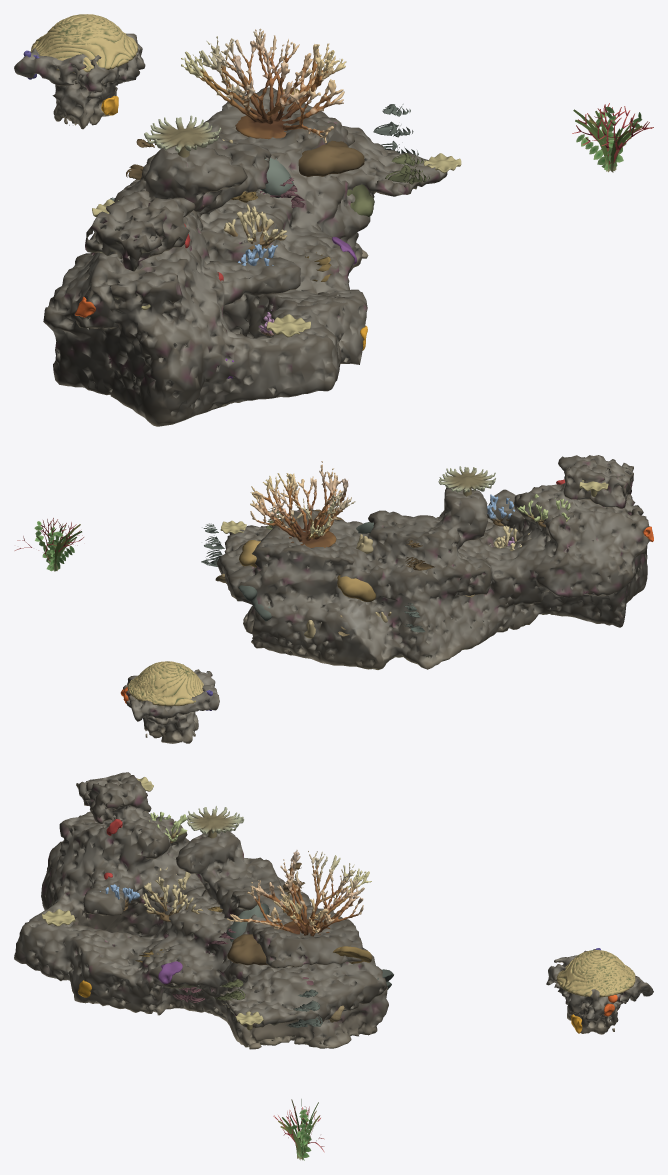
File: reef-benchmark.glb
3 views of the same model, one above another, from view 1: azimuth 30°, elevation 25°; view 2: azimuth 150°, elevation 25°; view 3: azimuth 270°, elevation 25° (orthographic). The views are drawn at different scales.
Parts seen in each view (by area): view 1: Reef_Ridge, Reef_Branching, Reef_Massive, Reef_Bommie, Reef_Soft, Reef_Sponge, Reef_Plant_Halimeda, Reef_Plant_Grass, Reef_Plant_RedAlga; view 2: Reef_Ridge, Reef_Branching, Reef_Massive, Reef_Bommie, Reef_Soft, Reef_Plant_Halimeda, Reef_Plant_Grass; view 3: Reef_Ridge, Reef_Branching, Reef_Massive, Reef_Bommie, Reef_Sponge, Reef_Soft.
Boxes of the visible parts, bbox=[...] form: Reef_Ridge: bbox=[43, 87, 447, 426]; Reef_Branching: bbox=[118, 28, 346, 336]; Reef_Massive: bbox=[30, 14, 429, 281]; Reef_Bommie: bbox=[14, 33, 145, 129]; Reef_Soft: bbox=[92, 139, 461, 337]; Reef_Sponge: bbox=[23, 50, 367, 378]; Reef_Plant_Halimeda: bbox=[576, 106, 642, 170]; Reef_Plant_Grass: bbox=[573, 109, 642, 172]; Reef_Plant_RedAlga: bbox=[572, 103, 653, 164]; Reef_Ridge: bbox=[216, 455, 650, 669]; Reef_Branching: bbox=[250, 461, 570, 551]; Reef_Massive: bbox=[127, 506, 474, 706]; Reef_Bommie: bbox=[123, 669, 219, 743]; Reef_Soft: bbox=[220, 480, 608, 638]; Reef_Plant_Halimeda: bbox=[34, 521, 74, 571]; Reef_Plant_Grass: bbox=[36, 521, 81, 571]; Reef_Ridge: bbox=[14, 772, 388, 1049]; Reef_Branching: bbox=[100, 806, 371, 936]; Reef_Massive: bbox=[135, 862, 635, 1027]; Reef_Bommie: bbox=[546, 949, 653, 1034]; Reef_Sponge: bbox=[78, 819, 617, 1033]; Reef_Soft: bbox=[42, 777, 299, 1030].
Size of what is drawn, in the model's own units: 11.64 by 3.58 by 11.79.
